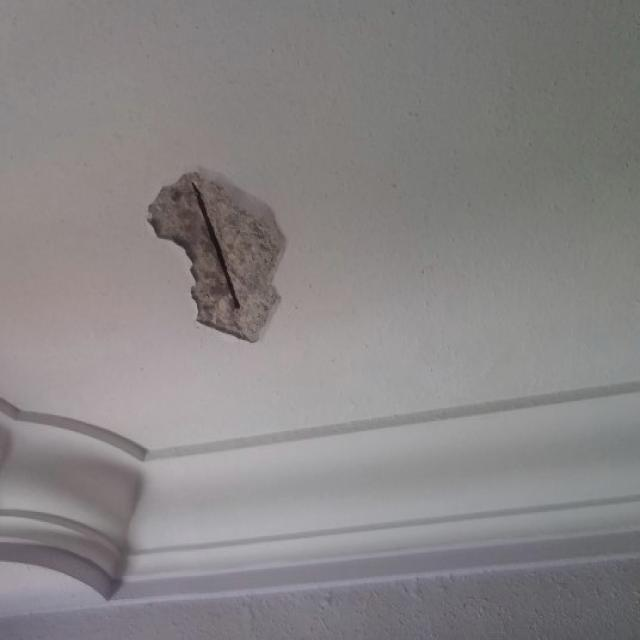Spalling: (144, 166, 287, 342)
